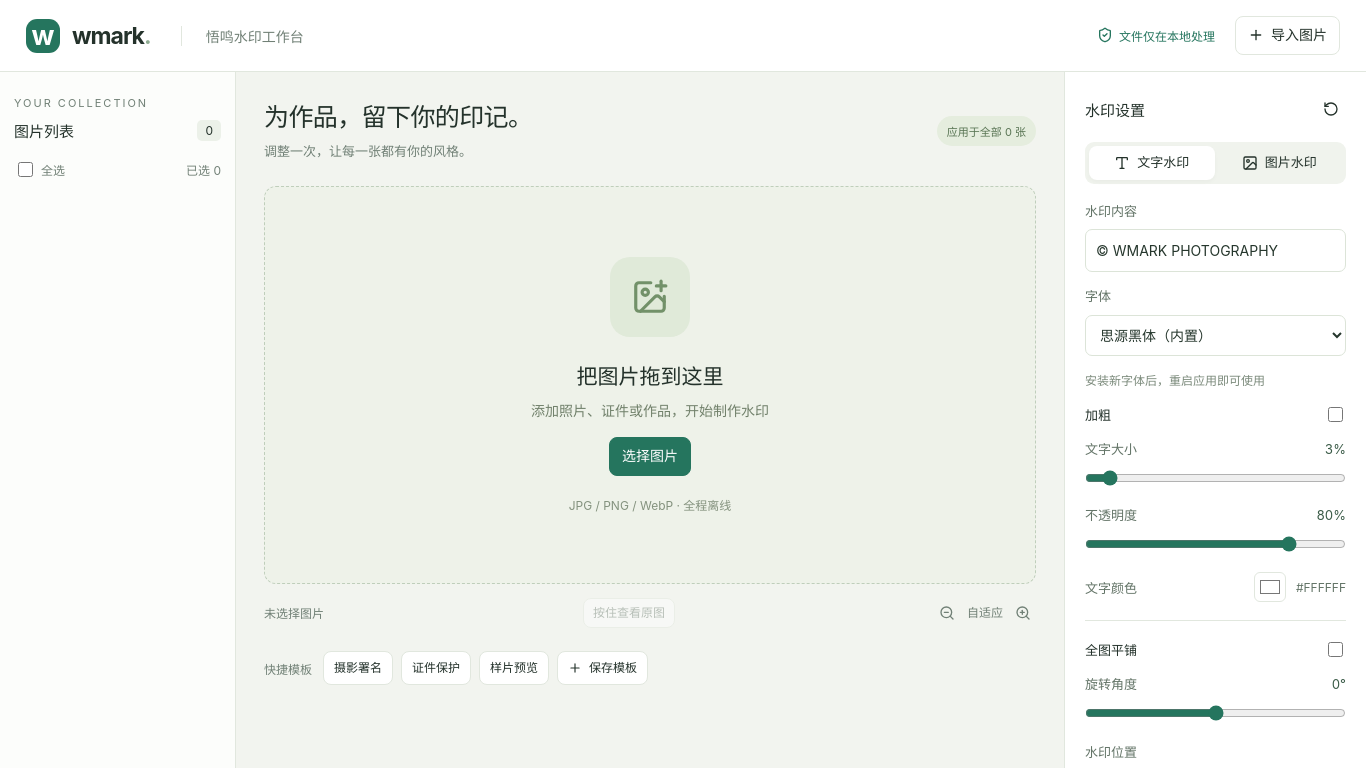
Test: R02 removes an imported file and returns to empty state
The image size is (1366, 768).
Click the button "选择图片".
click(650, 456)  # box [609, 437, 691, 476]
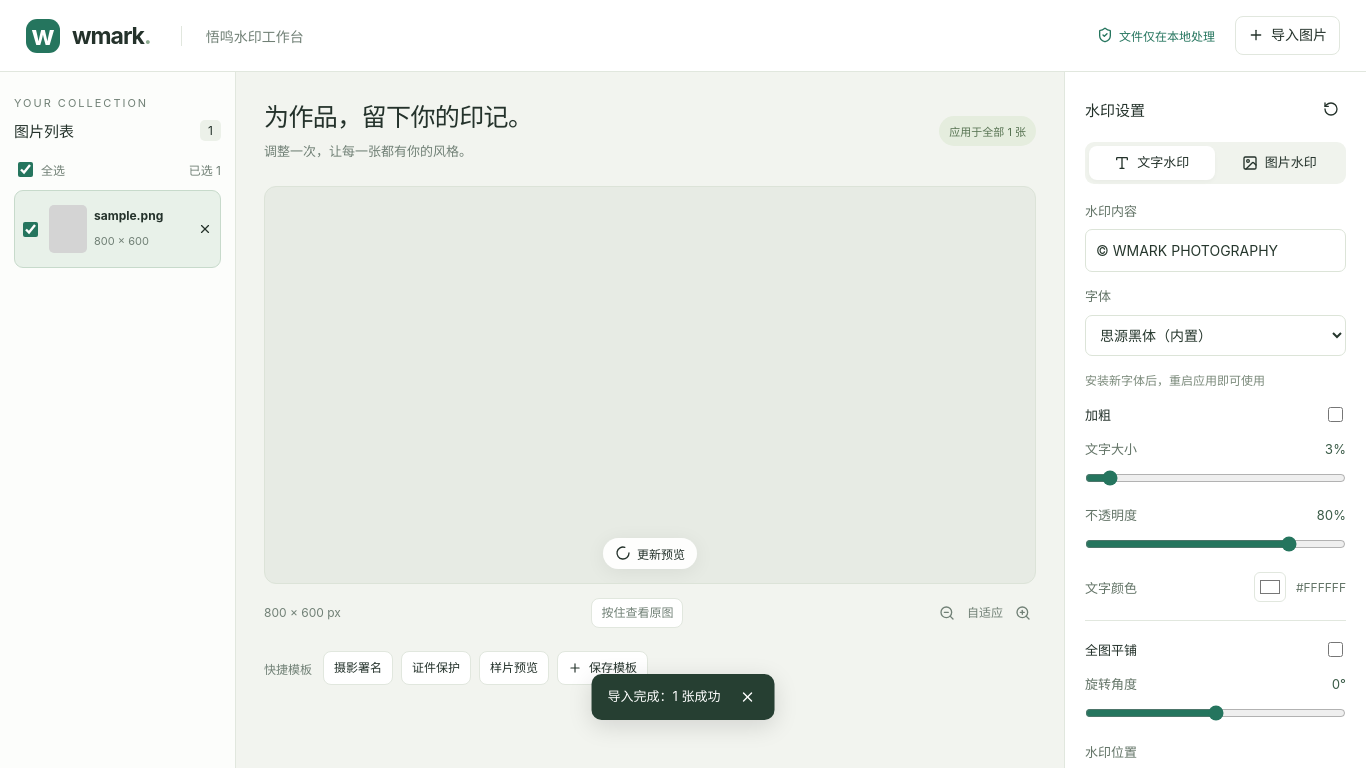
Expected: the text "800 × 600 px" is shown, [264, 605, 341, 620]
Click the button named "移除 sample.png".
click(205, 229)  # box [194, 218, 216, 240]
(page scrolled)
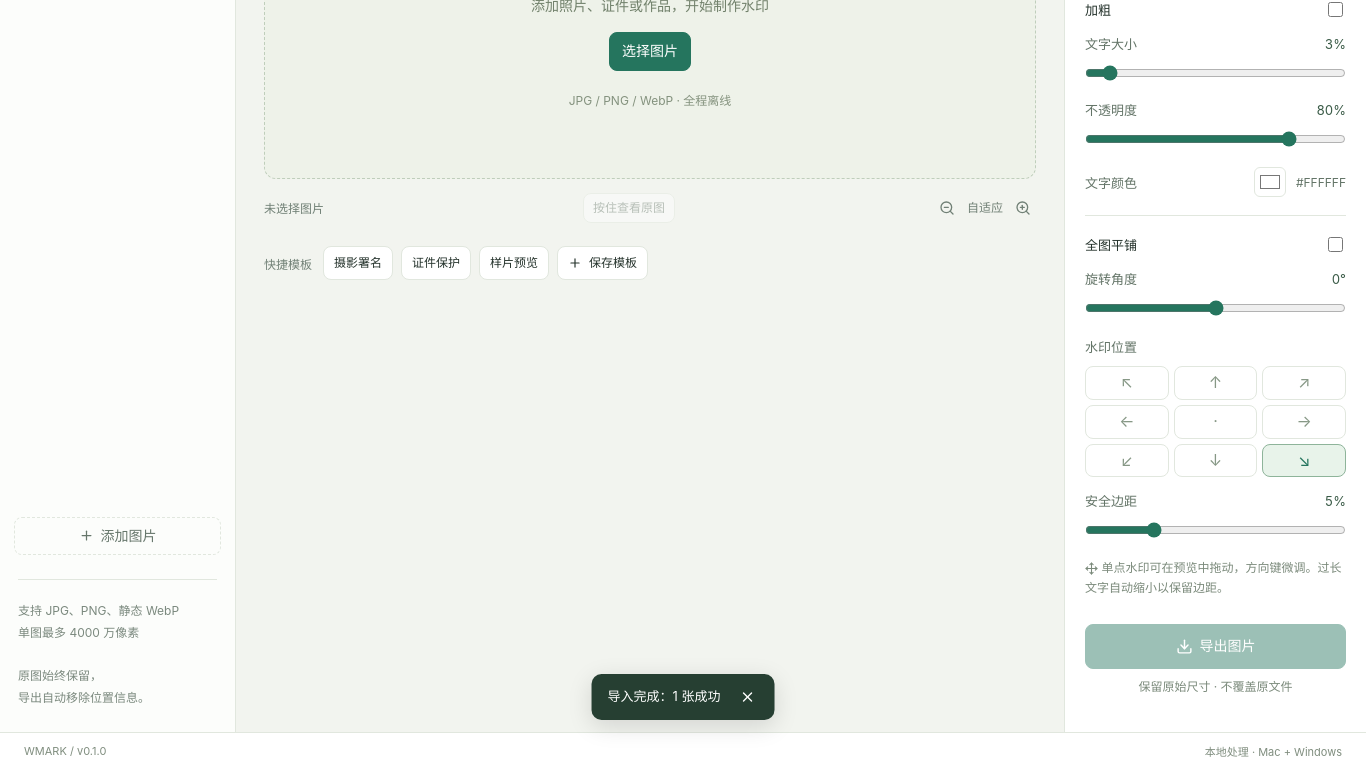
Expected: the button "选择图片" is shown, [609, 32, 691, 71]
Expected: the button "导出图片" is disabled, [1085, 624, 1346, 669]
